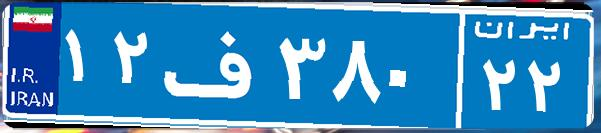0: (385, 28, 445, 110)
1: (57, 26, 110, 107)
2: (475, 38, 525, 113), (110, 28, 158, 105), (525, 38, 570, 115)
3: (273, 28, 330, 110)
8: (330, 28, 385, 110)
ف: (158, 15, 273, 115)
